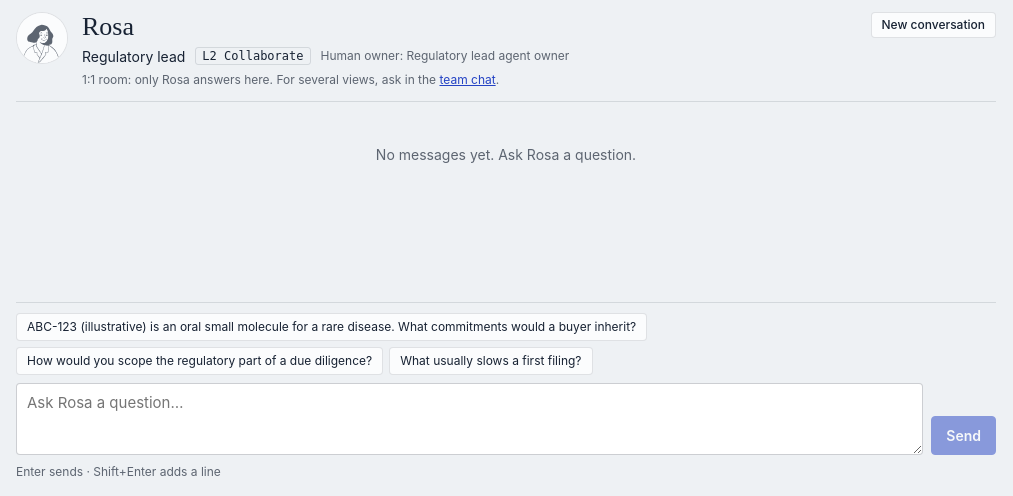
Test: ChatRoom › disables the composer and marks the room busy while a turn runs
The width and height of the screenshot is (1013, 496).
Type "Hello Rosa" into the text box named "Message Rosa" at [470, 419], box top-left (16, 383), bottom-right (923, 455)
Then press Enter
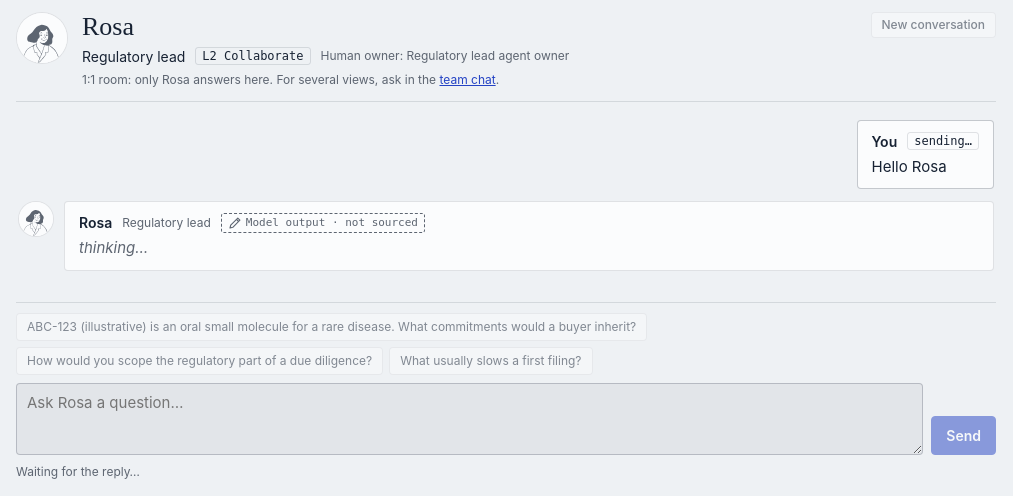
Now the text box named "Message Rosa" is disabled, box top-left (16, 383), bottom-right (923, 455)
Now the text "thinking…" is shown, box top-left (79, 238), bottom-right (148, 257)
